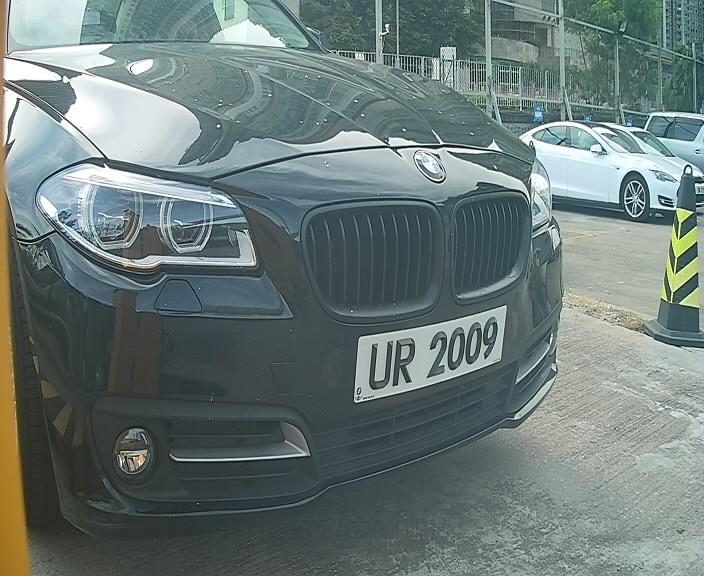privatecar: (4, 24, 579, 517)
